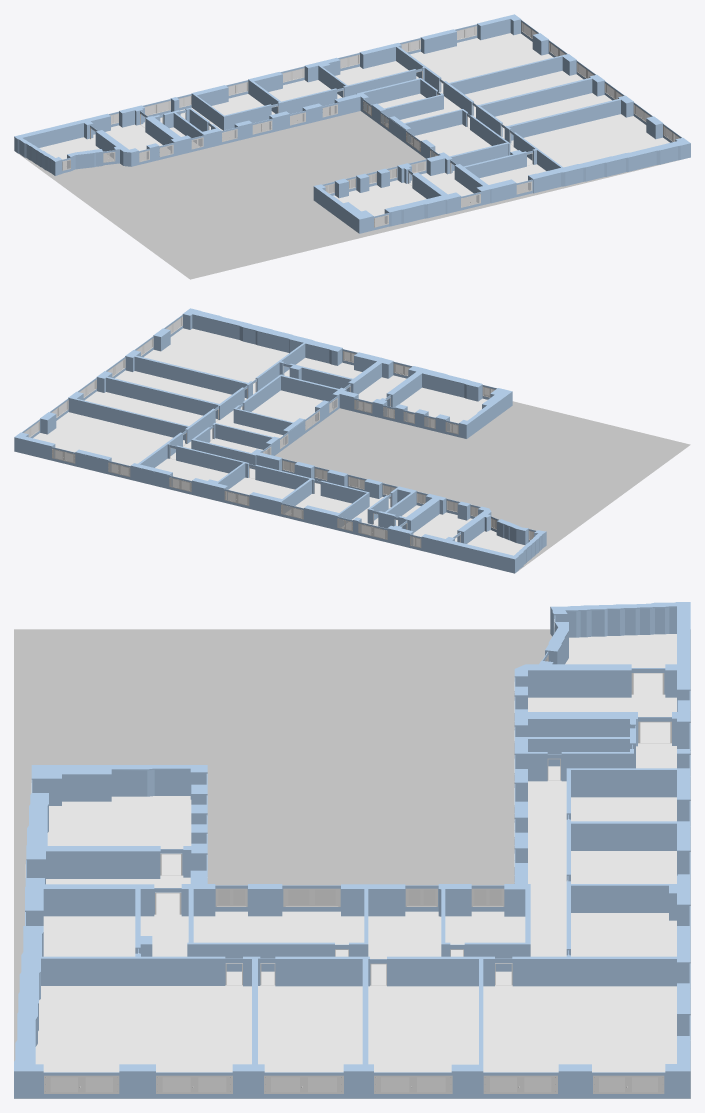
The model's file is 6thfloor.glb.
3 views of the same model, one above another, from view 1: azimuth 30°, elevation 25°; view 2: azimuth 150°, elevation 25°; view 3: azimuth 270°, elevation 25° (orthographic). The views are drawn at different scales.
Parts seen in each view (by area): view 1: ground_1, room_428_2516, room_423_2506, room_431_2522, wall_278_1667, room_424_2508, wall_225_1348, wall_253_1516, room_426_2512, room_427_2514, room_461_2554, room_434_2526 (+30 smaller); view 2: ground_1, room_428_2516, room_423_2506, room_431_2522, wall_231_1384, wall_284_1703, room_424_2508, wall_246_1474, room_426_2512, room_427_2514, wall_31_184, room_461_2554 (+37 smaller); view 3: ground_1, room_428_2516, room_423_2506, room_417_2494, room_424_2508, room_427_2514, room_431_2522, room_426_2512, wall_318_1906, room_422_2504, wall_199_1192, room_416_2492 (+47 smaller).
Part boxes in pixels (x1,y1,x2,y2): ground_1: [18, 92, 679, 279]; room_428_2516: [510, 114, 669, 167]; room_423_2506: [410, 33, 553, 93]; room_431_2522: [333, 180, 426, 225]; wall_278_1667: [510, 100, 620, 140]; room_424_2508: [465, 70, 583, 117]; wall_225_1348: [451, 57, 562, 94]; wall_253_1516: [481, 79, 592, 116]; room_426_2512: [410, 124, 491, 156]; room_427_2514: [495, 93, 611, 138]; room_461_2554: [513, 132, 690, 179]; room_434_2526: [91, 124, 170, 160]; ground_1: [171, 395, 690, 570]; room_428_2516: [144, 328, 288, 394]; room_423_2506: [33, 412, 185, 475]; room_431_2522: [387, 387, 487, 432]; wall_231_1384: [68, 398, 186, 440]; wall_284_1703: [134, 357, 246, 397]; room_424_2508: [84, 391, 217, 425]; wall_246_1474: [106, 378, 217, 418]; room_426_2512: [251, 390, 332, 427]; room_427_2514: [115, 370, 246, 403]; wall_31_184: [421, 537, 514, 573]; room_461_2554: [182, 308, 342, 378]; ground_1: [14, 629, 690, 1098]; room_428_2516: [35, 985, 251, 1091]; room_423_2506: [483, 985, 676, 1091]; room_417_2494: [140, 743, 676, 985]; room_424_2508: [368, 985, 478, 1091]; room_427_2514: [258, 985, 362, 1091]; room_431_2522: [47, 796, 191, 875]; room_426_2512: [193, 911, 364, 956]; wall_318_1906: [41, 960, 225, 985]; room_422_2504: [571, 913, 676, 956]; wall_199_1192: [512, 960, 676, 986]; room_416_2492: [565, 634, 676, 694].
Bounding box in the file's own units: 9625 × 262 × 5865.
